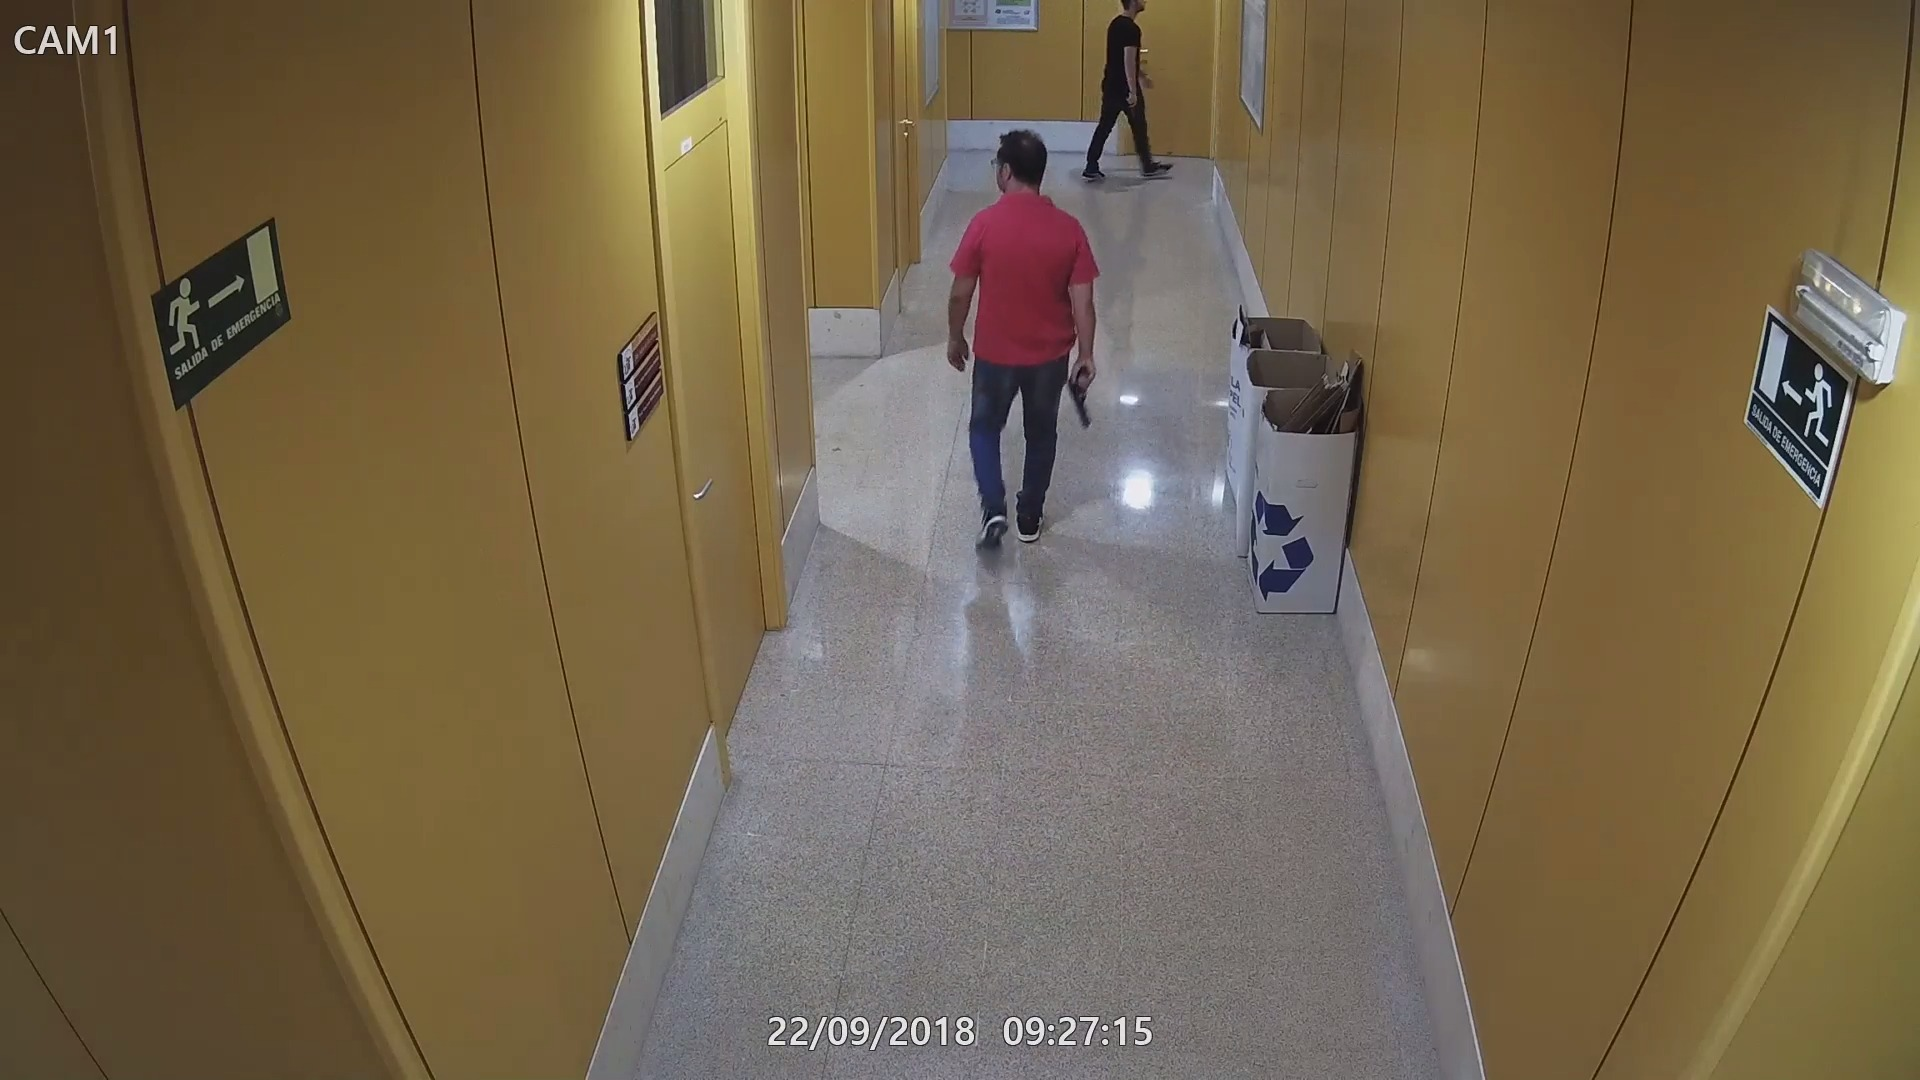Handgun: (1062, 360, 1098, 429), (1118, 90, 1145, 116)
